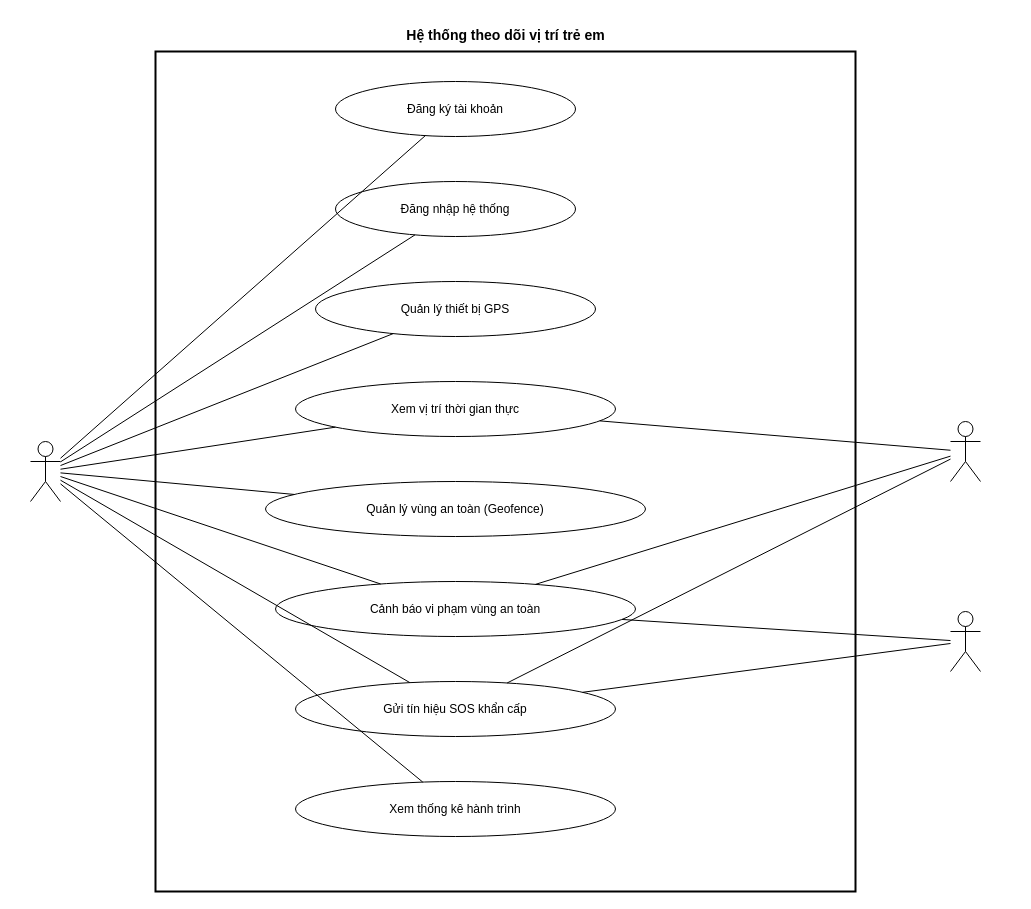
Image size: 1031x909. Some labels were removed from this diagram. Here are the shapes that lost their labels. From the top down, the centre of each, then its label:
[45,471]: Phụ huynh
[965,451]: Thiết bị IoT
[965,641]: Dịch vụ thông báo
